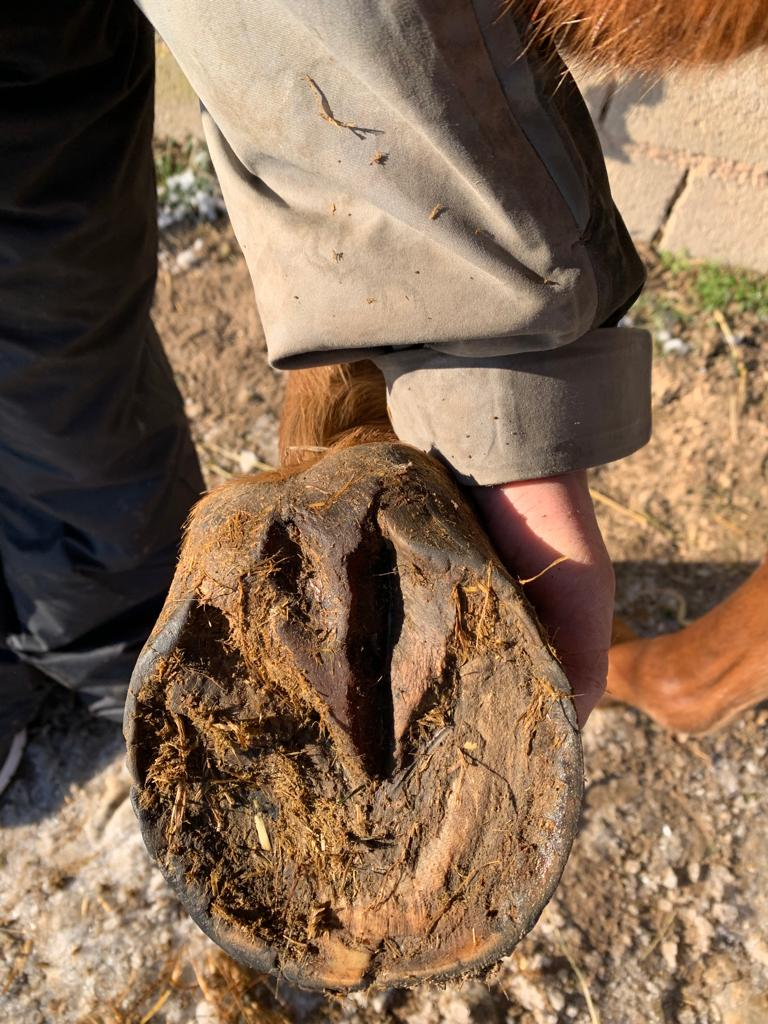horsesole: (120, 507, 584, 992)
